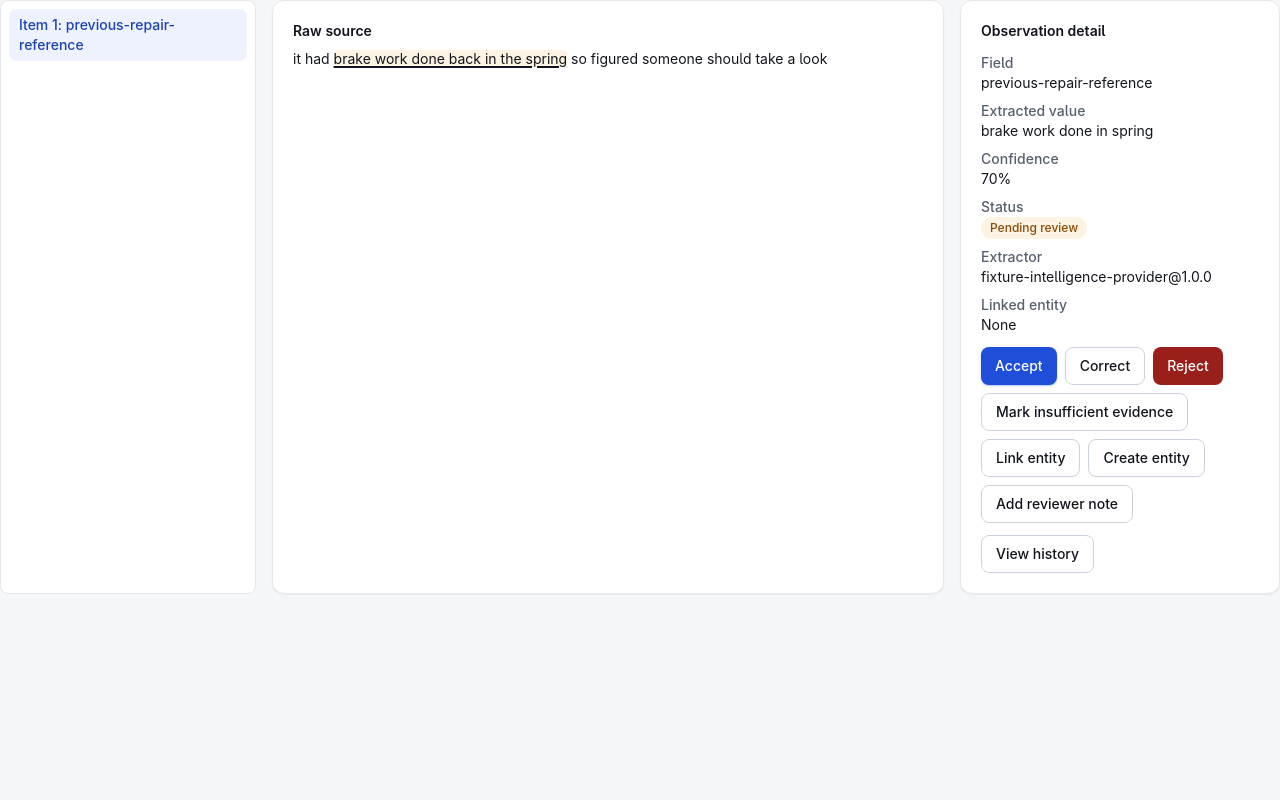
Test: ReviewQueuePanel › Create entity requires a display name, then creates and links a new entity without advancing the queue
This screenshot has width=1280, height=800.
Click the button "Create entity": (1147, 458) [1088,439,1205,477]
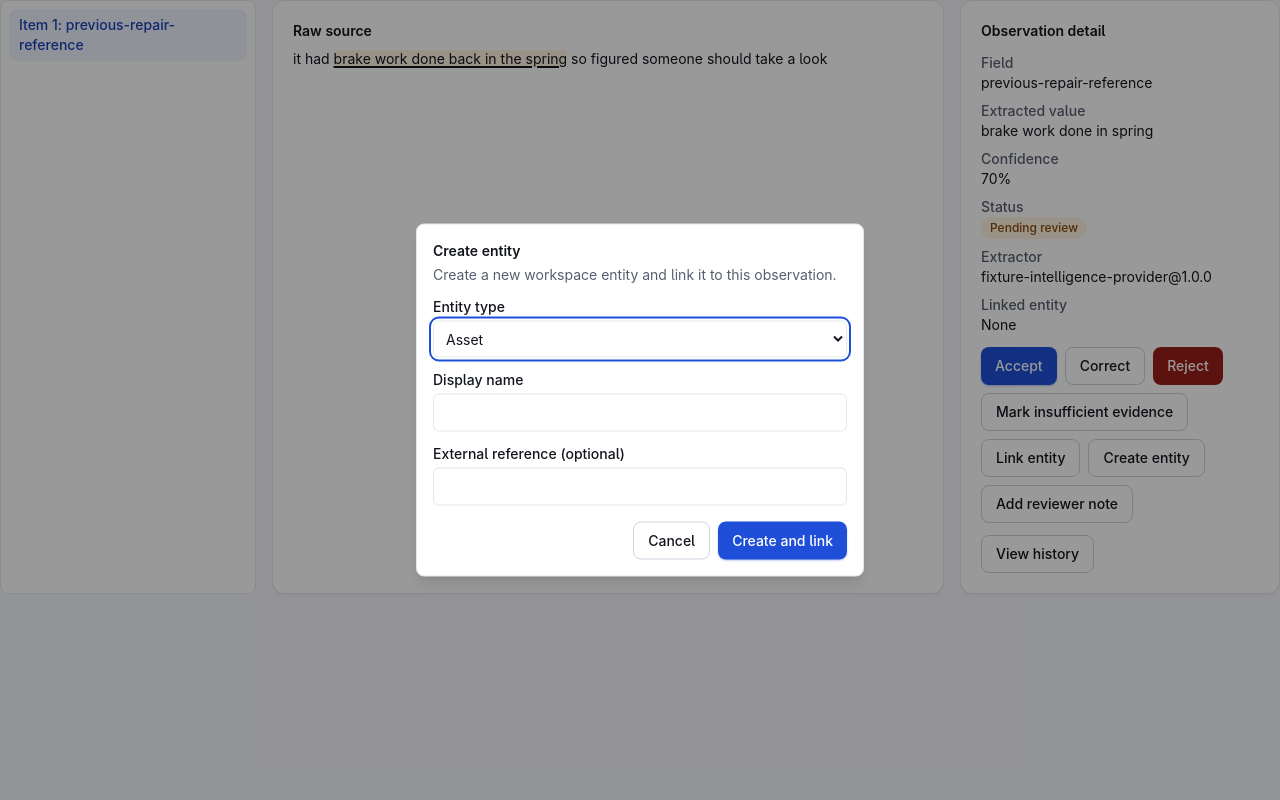
Click the button "Create and link": (783, 540) [718,522,847,560]
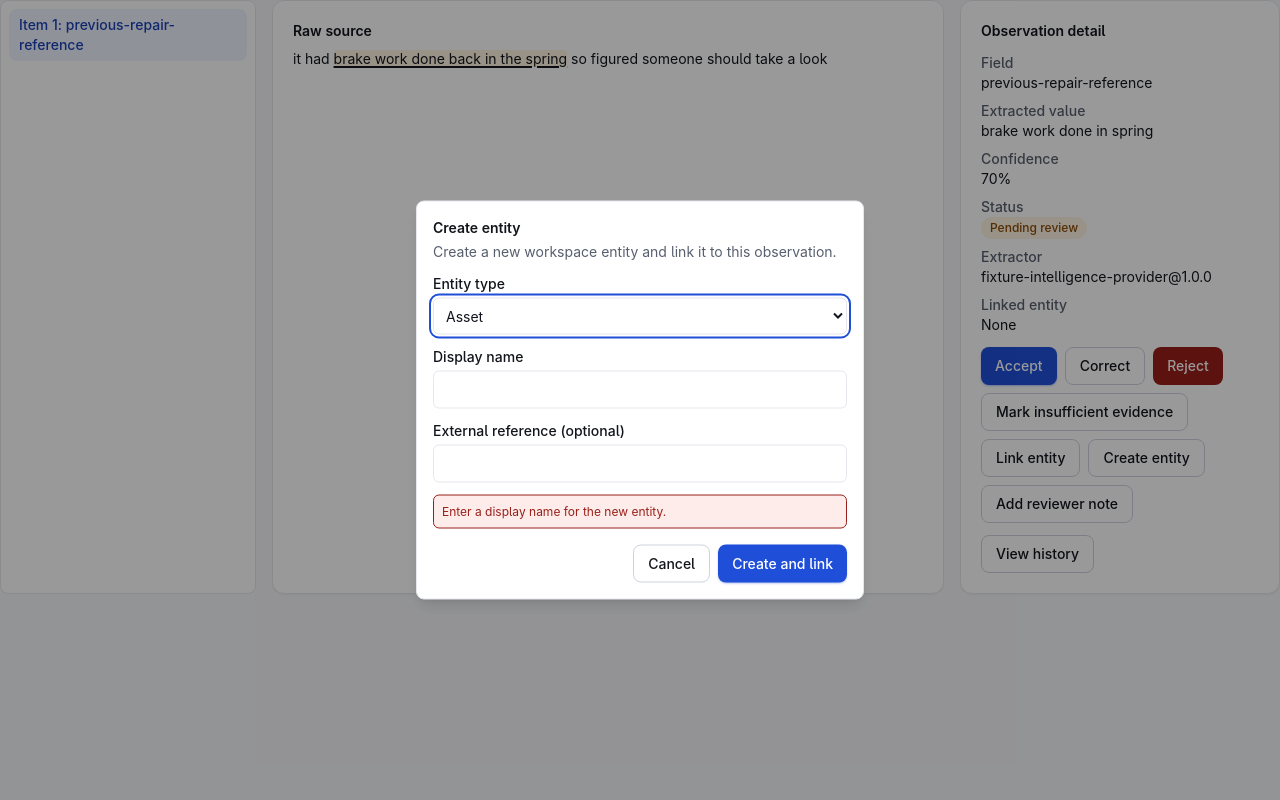
Expected: the message shows "Enter a display name", [442,504,666,518]
In the field labelled "Display name": (640, 390) [433,370,847,408], type "New Pump"
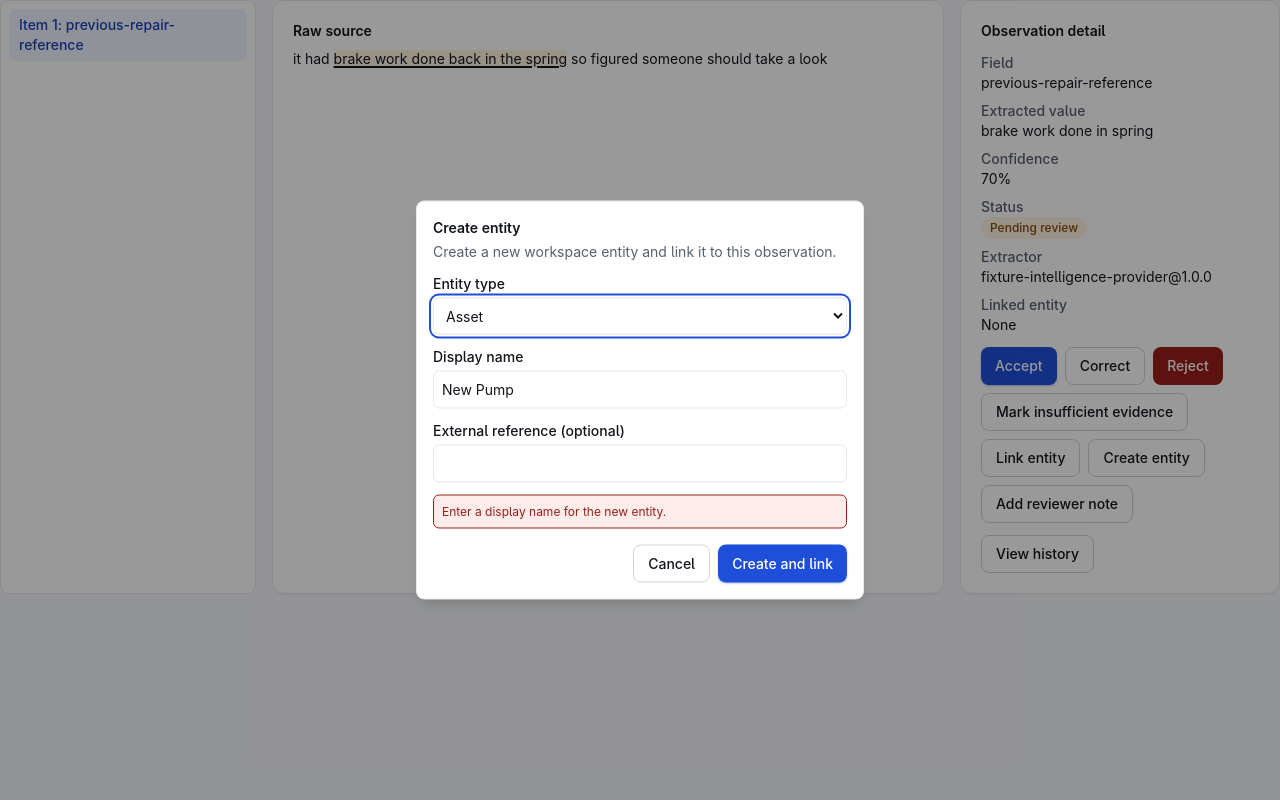
Click the button "Create and link": (783, 564) [718,544,847,582]
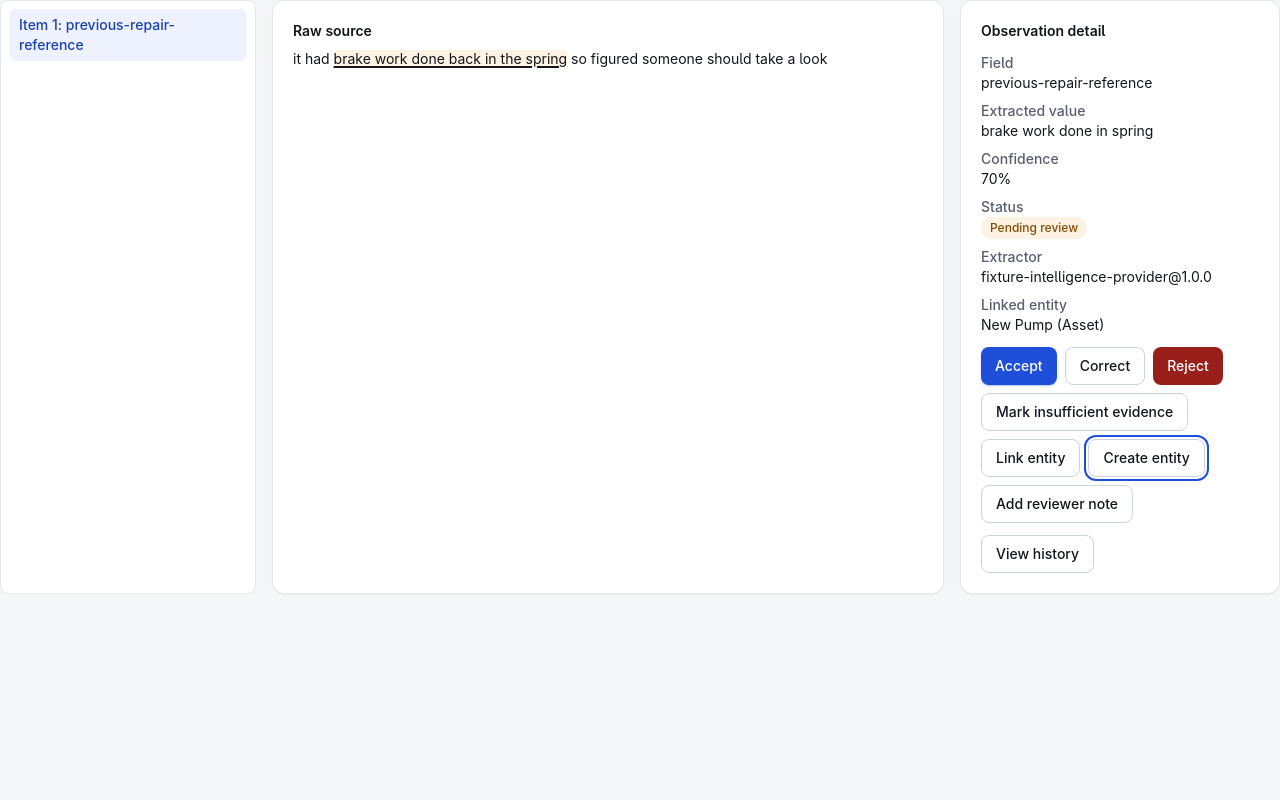
Expected: the text "previous-repair-reference" is shown, [981,74,1152,91]
Expected: the text "New Pump (Asset)" is shown, [981,316,1104,333]
